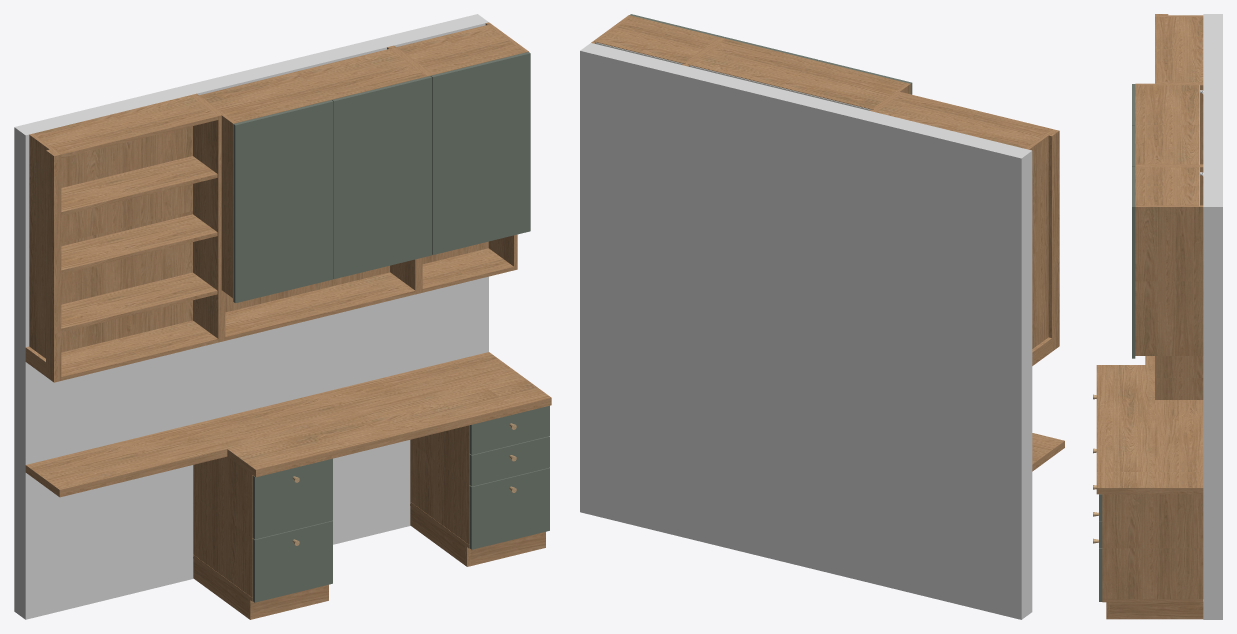
The model's file is ASZTSZEK.glb.
The picture shows the model from 3 angles, left to right: view 1: azimuth 30°, elevation 25°; view 2: azimuth 150°, elevation 25°; view 3: azimuth 270°, elevation 25°; orthographic projection. The views are drawn at different scales.
Parts seen in each view (by area): view 1: 3DGeom-167, 3DGeom-354, 3DGeom-182, 3DGeom-215, 3DGeom-184, 3DGeom-266, 3DGeom-175, 3DGeom-324, 3DGeom-363, 3DGeom-285, 3DGeom-294, 3DGeom-334 (+25 smaller); view 2: 3DGeom-167, 3DGeom-175, 3DGeom-264, 3DGeom-258, 3DGeom-212, 3DGeom-381; view 3: 3DGeom-167, 3DGeom-354, 3DGeom-287, 3DGeom-207, 3DGeom-175, 3DGeom-264, 3DGeom-212, 3DGeom-238, 3DGeom-357, 3DGeom-214, 3DGeom-353, 3DGeom-283 (+3 smaller).
Boxes of the visible parts, left/top/right/bottom form: 3DGeom-167: left=14, top=14, right=488, bottom=619; 3DGeom-354: left=193, top=352, right=551, bottom=469; 3DGeom-182: left=235, top=101, right=333, bottom=303; 3DGeom-215: left=432, top=53, right=530, bottom=254; 3DGeom-184: left=334, top=77, right=431, bottom=279; 3DGeom-266: left=61, top=126, right=192, bottom=352; 3DGeom-175: left=199, top=49, right=426, bottom=122; 3DGeom-324: left=193, top=456, right=252, bottom=597; 3DGeom-363: left=26, top=424, right=226, bottom=489; 3DGeom-285: left=410, top=425, right=469, bottom=544; 3DGeom-294: left=471, top=468, right=549, bottom=549; 3DGeom-334: left=255, top=521, right=332, bottom=602; 3DGeom-167: left=580, top=43, right=1032, bottom=619; 3DGeom-175: left=690, top=39, right=906, bottom=109; 3DGeom-264: left=876, top=92, right=1052, bottom=148; 3DGeom-258: left=1029, top=135, right=1048, bottom=348; 3DGeom-212: left=596, top=16, right=718, bottom=63; 3DGeom-381: left=1048, top=131, right=1059, bottom=351; 3DGeom-167: left=1203, top=14, right=1222, bottom=619; 3DGeom-354: left=1096, top=365, right=1203, bottom=487; 3DGeom-287: left=1102, top=494, right=1203, bottom=599; 3DGeom-207: left=1135, top=207, right=1203, bottom=355; 3DGeom-175: left=1135, top=85, right=1199, bottom=164; 3DGeom-264: left=1155, top=17, right=1203, bottom=82; 3DGeom-212: left=1135, top=167, right=1199, bottom=205; 3DGeom-238: left=1155, top=356, right=1203, bottom=399; 3DGeom-357: left=1106, top=602, right=1203, bottom=619; 3DGeom-214: left=1132, top=166, right=1135, bottom=358; 3DGeom-353: left=1096, top=488, right=1203, bottom=494; 3DGeom-283: left=1102, top=599, right=1202, bottom=602.
Bounding box in the file's own units: 2.35 × 2.35 × 0.668.
Materials: 15 (7 with a texture image).
